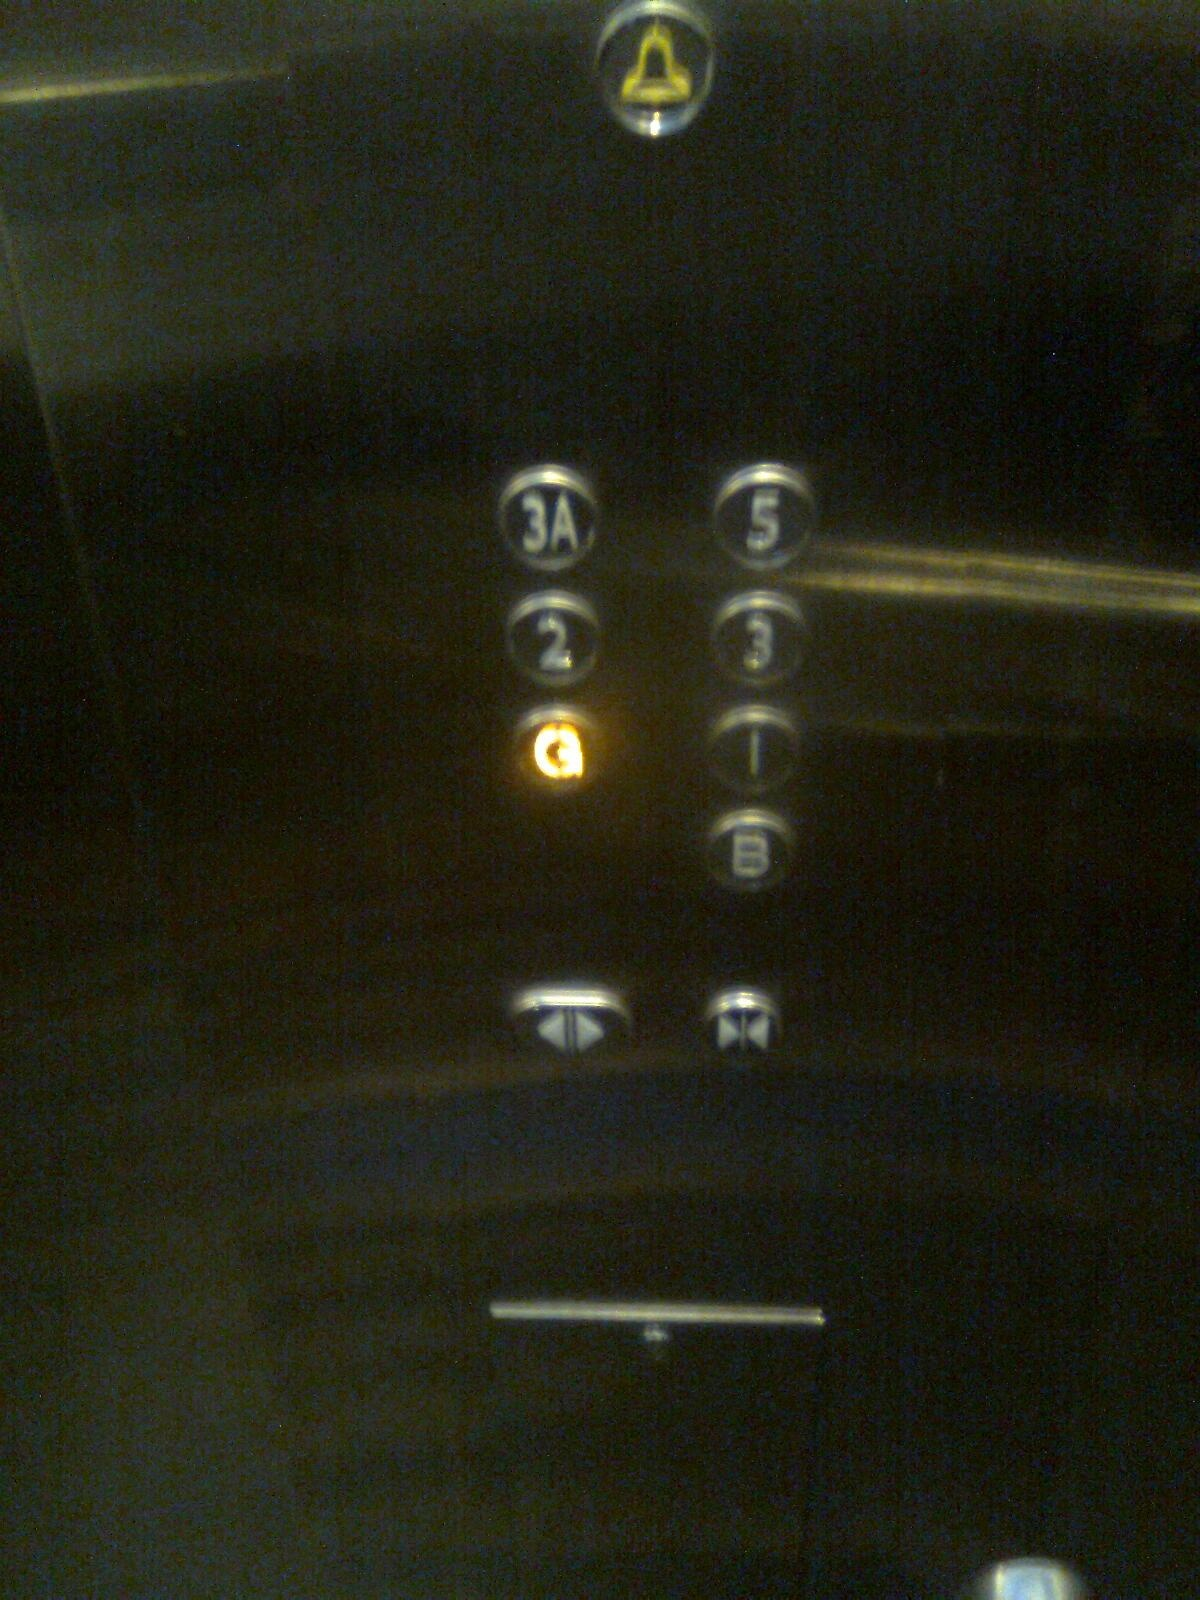1: (706, 704, 803, 796)
2: (503, 590, 608, 690)
3: (708, 590, 816, 692)
3A: (495, 461, 604, 576)
5: (708, 462, 824, 576)
B: (705, 808, 794, 894)
G: (505, 706, 613, 796)
alarm: (584, 1, 724, 142)
close: (700, 985, 787, 1072)
open: (505, 981, 634, 1063)
